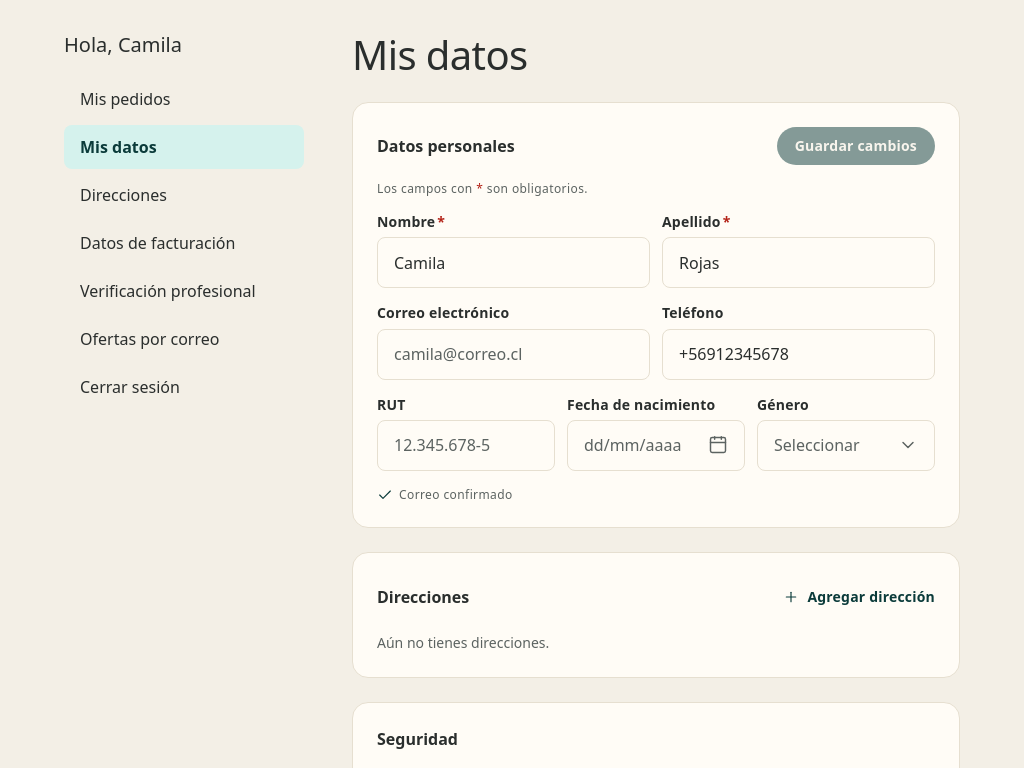
Test: SCRUM-97 · Mis datos › E1-H5 FE · editar datos: con demasiadas ediciones (429) avisa sin perder lo escrito
Type "9" into the field labelled "Teléfono". click: (798, 354)
box: x1=662 y1=329 x2=935 y2=380
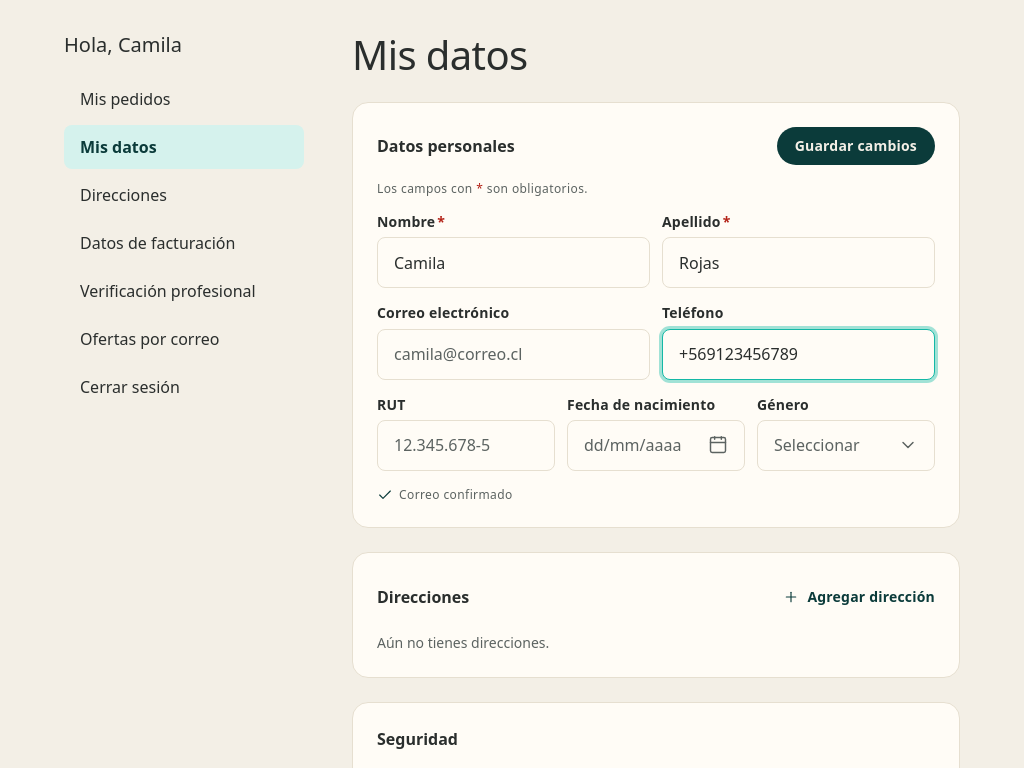
Click the button "Guardar cambios". click: click(856, 146)
box: x1=777 y1=127 x2=935 y2=165
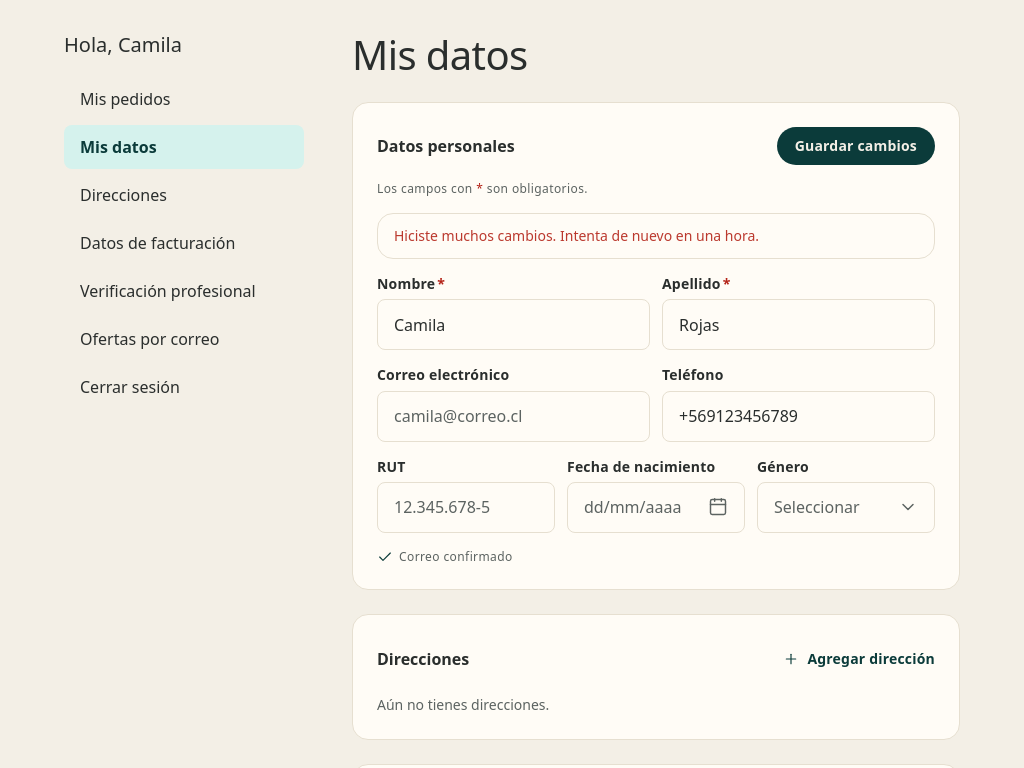
Check: the field labelled "Teléfono" holds "+569123456789", box x1=662 y1=391 x2=935 y2=442
Check: the message reads "Hiciste muchos cambios. Intenta de nuevo en una hora.", box x1=394 y1=226 x2=759 y2=245
